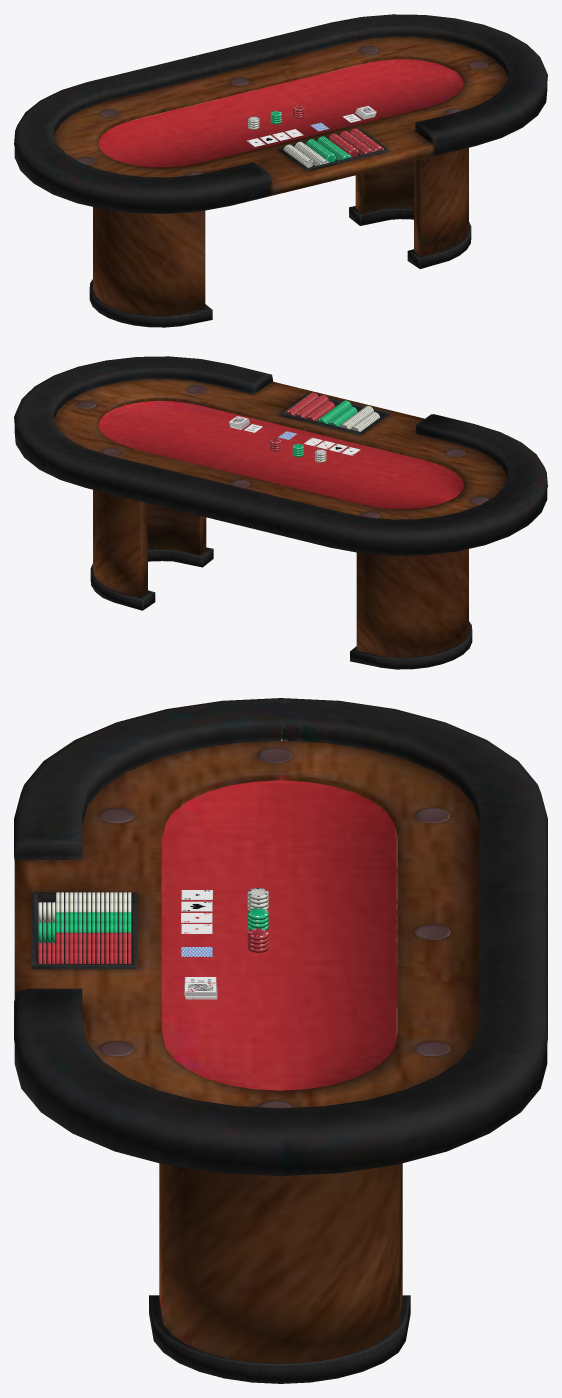
The model's file is poker.glb.
3 views of the same model, one above another, from view 1: azimuth 30°, elevation 25°; view 2: azimuth 150°, elevation 25°; view 3: azimuth 270°, elevation 25° (orthographic). The views are drawn at different scales.
Parts seen in each view (by area): view 1: Object_2; view 2: Object_2; view 3: Object_2.
Part boxes in pixels (x1,y1,x2,y2): Object_2: [14, 14, 547, 327]; Object_2: [14, 356, 547, 669]; Object_2: [14, 698, 547, 1383].
Bounding box in the file's own units: 2.93 × 0.9328 × 1.48.
1 material, 1 textured.
